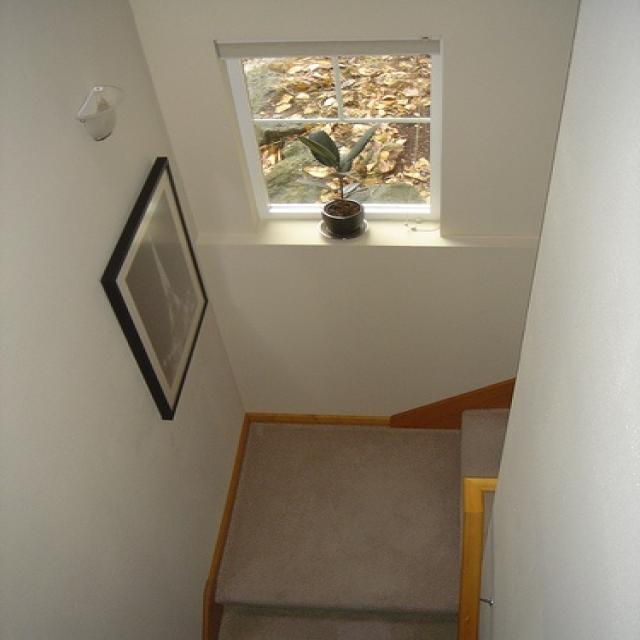pottedplant: (292, 122, 391, 243)
